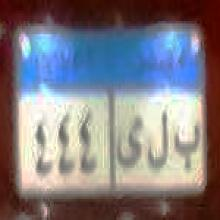4: (77, 108, 99, 181), (32, 111, 54, 181), (56, 105, 76, 181)
baa: (174, 119, 202, 176)
laam: (145, 106, 169, 178)
yaa: (115, 110, 142, 180)
